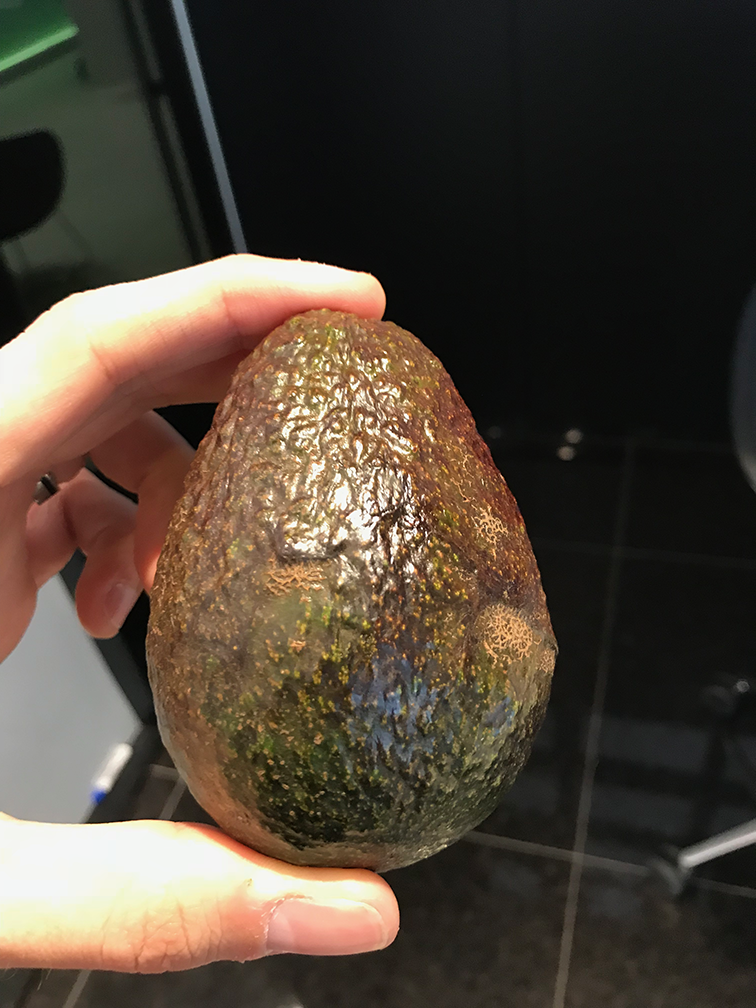avocado: (145, 297, 559, 892)
